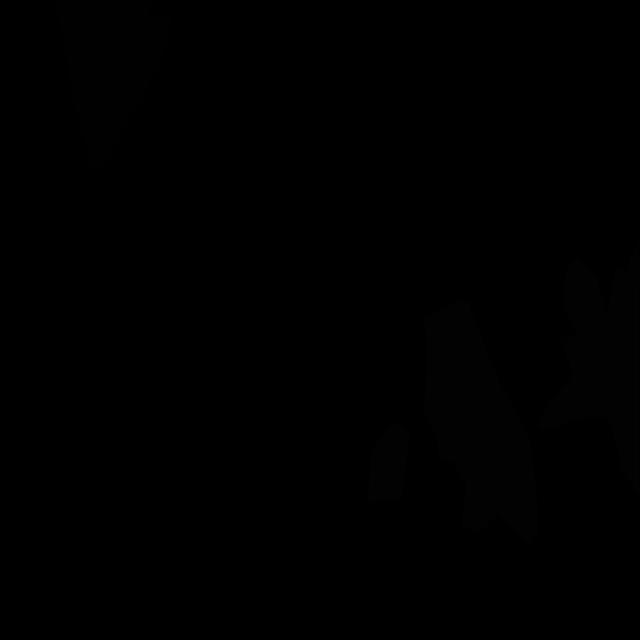cardboard: (424, 300, 538, 546), (536, 239, 640, 496), (368, 422, 410, 503)
rigid_plastic: (58, 0, 174, 176)
